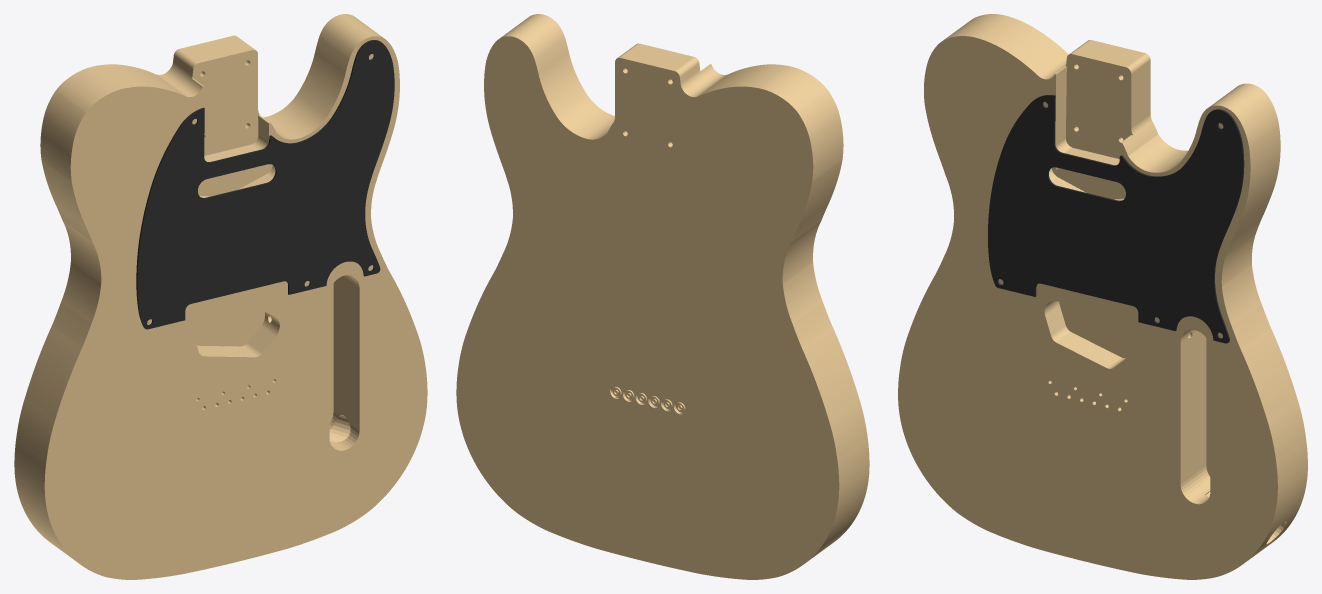
Rendered from body.glb.
The picture shows the model from 3 angles, left to right: view 1: azimuth 30°, elevation 25°; view 2: azimuth 150°, elevation 25°; view 3: azimuth 330°, elevation 25°; orthographic projection.
Parts seen in each view (by area): view 1: body, pickguard; view 2: body; view 3: body, pickguard.
Boxes of the visible parts, bbox=[...] form: body: bbox=[14, 14, 427, 579]; pickguard: bbox=[136, 40, 394, 329]; body: bbox=[456, 14, 869, 579]; body: bbox=[898, 14, 1307, 579]; pickguard: bbox=[988, 95, 1244, 343].
Bounding box in the file's own units: 0.3241 × 0.4054 × 0.046.
